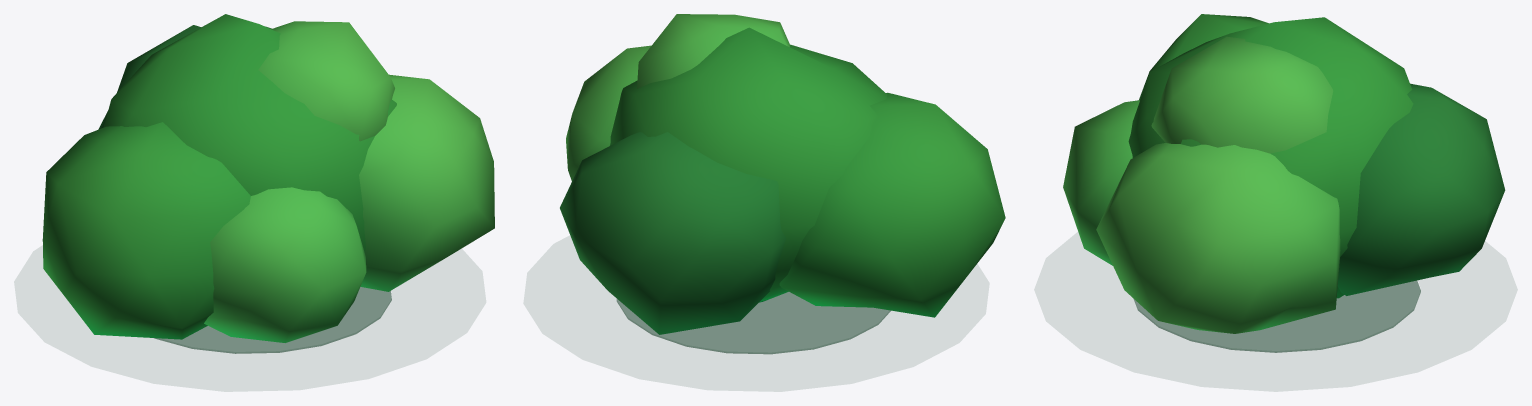
File: bush.glb
3 views of the same model, side by side, from view 1: azimuth 30°, elevation 25°; view 2: azimuth 150°, elevation 25°; view 3: azimuth 270°, elevation 25° (orthographic). The views are drawn at different scales.
Visible parts, largest first — view 1: bush; view 2: bush; view 3: bush.
Boxes of the visible parts, x1,y1,x2,y2 form: bush: [42, 14, 494, 353]; bush: [560, 14, 1005, 354]; bush: [1063, 14, 1505, 352].
Bounding box in the file's own units: 1.22 × 0.7607 × 1.2.
